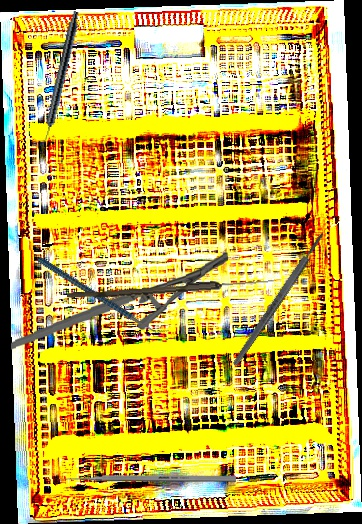Chopper: (36, 222, 170, 369)
Handpiece: (38, 9, 81, 149)
Needle Holder: (6, 250, 233, 350)
Pusher: (56, 475, 236, 482)
Scalpel Handle: (230, 231, 327, 368)
Surgical Spoon: (66, 274, 275, 304)
